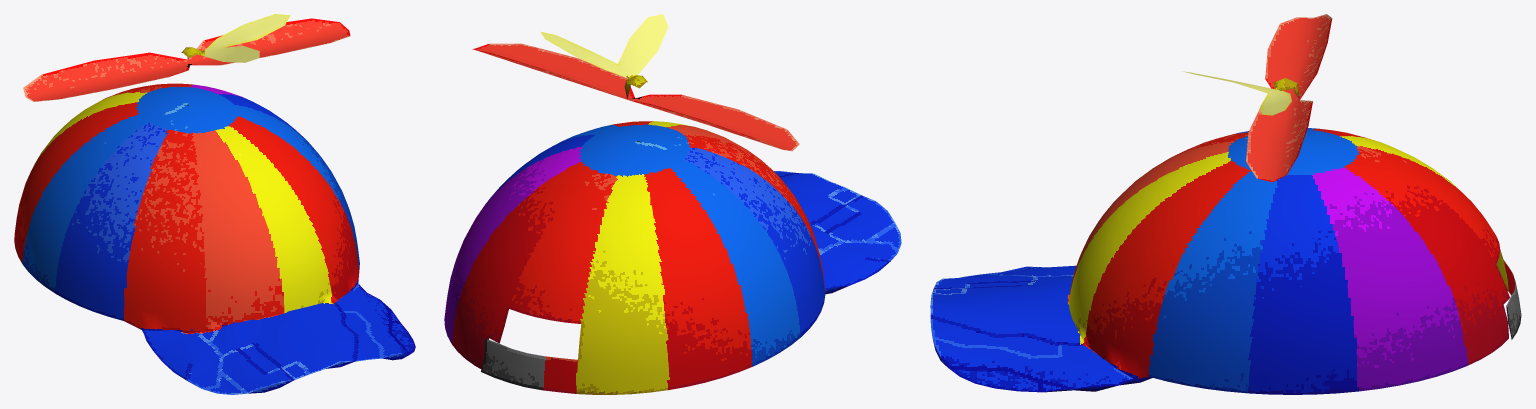
The model's file is wear_propeller3.glb.
3 views of the same model, side by side, from view 1: azimuth 30°, elevation 25°; view 2: azimuth 150°, elevation 25°; view 3: azimuth 270°, elevation 25° (orthographic). The views are drawn at different scales.
Parts seen in each view (by area): view 1: mesh; view 2: mesh; view 3: mesh.
Part boxes in pixels (x1,y1,x2,y2): mesh: (14,14,415,394); mesh: (444,14,901,394); mesh: (930,14,1521,394).
Size of the model in its own units: 0.2651 by 0.2 by 0.3867.
1 material, 1 textured.
